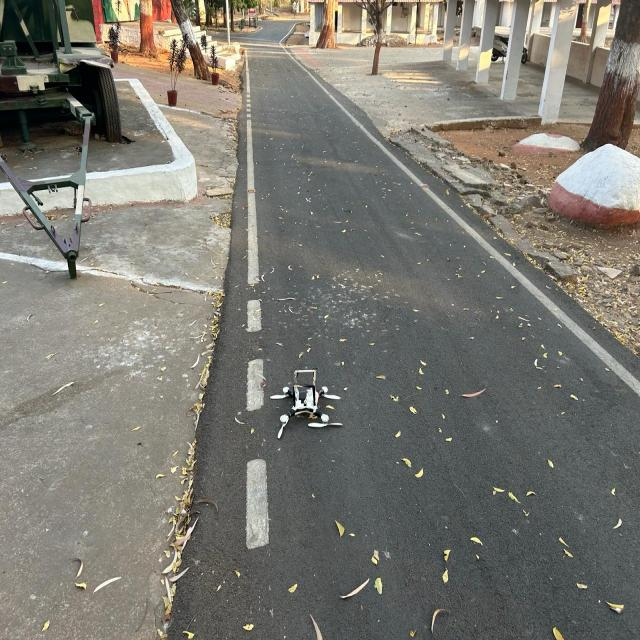drone: (265, 330, 357, 462)
